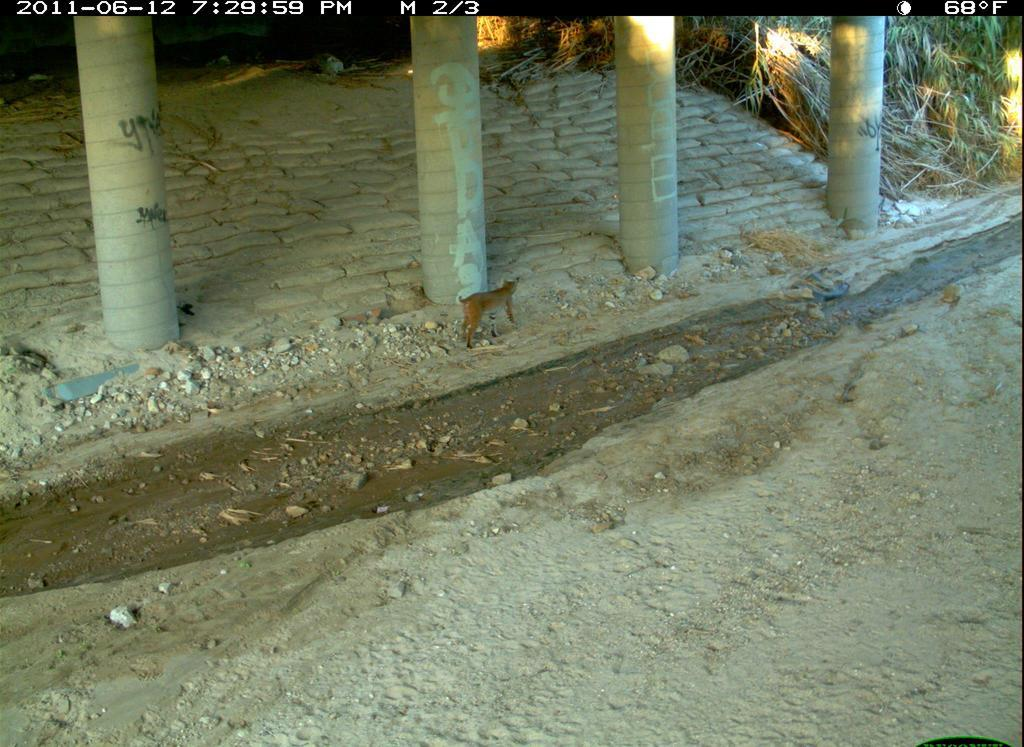bobcat: (899, 543, 1024, 707)
